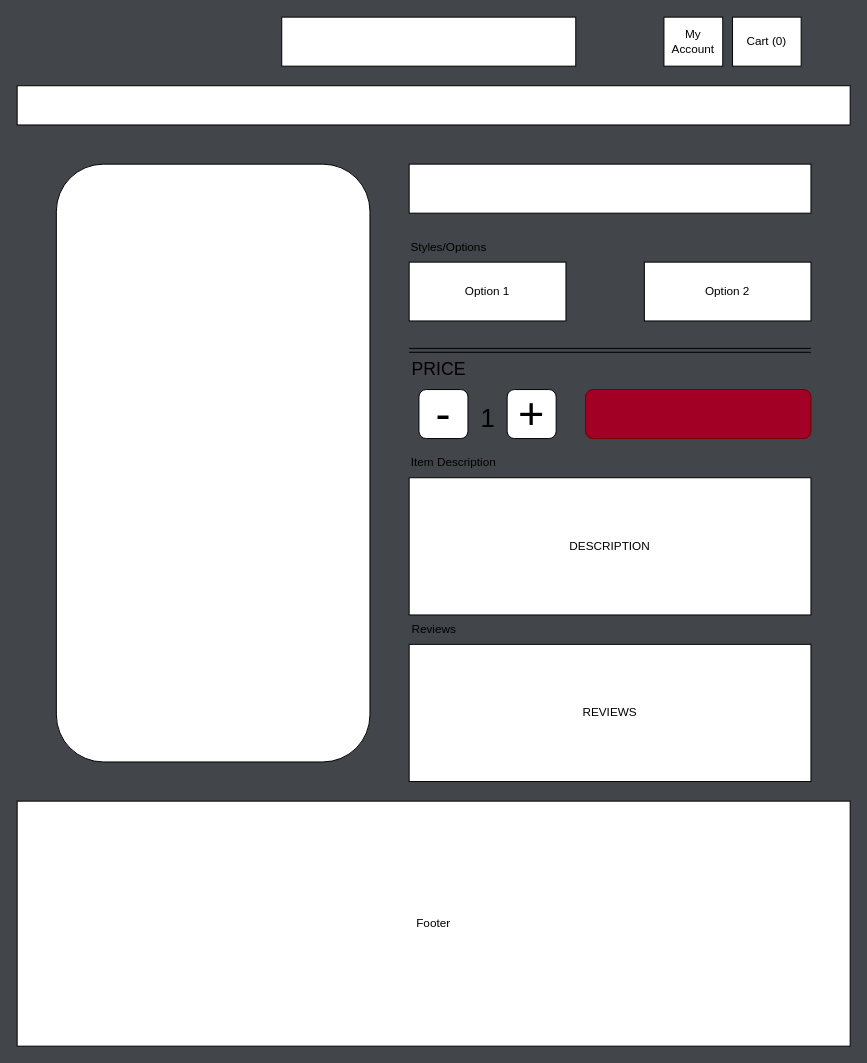
The diagram is 867 pixels wide and 1063 high, and some of its shapes have lost their labels. Each missing label, with the centre of its shape:
ADD TO CART: pixel 698 414
Image of Item: pixel 212 462
Item Name: pixel 609 188
Logo: pixel 428 41
Nav Bar: pixel 433 105
